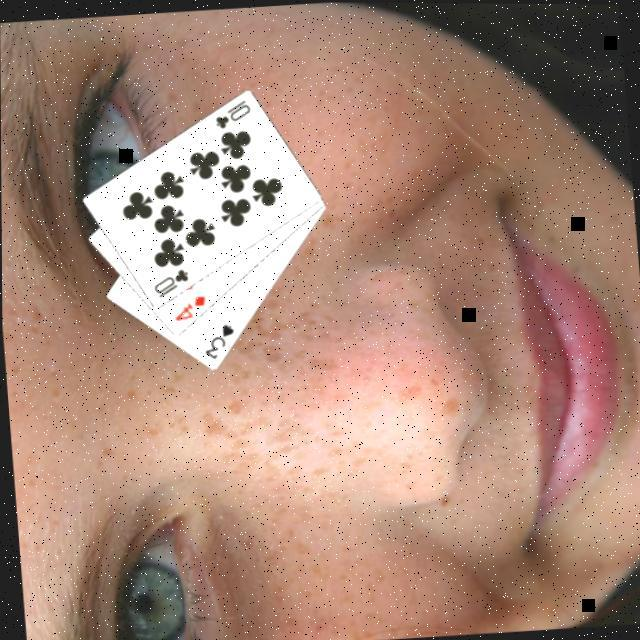10C: (147, 266, 190, 302), (210, 96, 253, 132)
3S: (198, 321, 236, 363)
4D: (168, 292, 208, 325)
